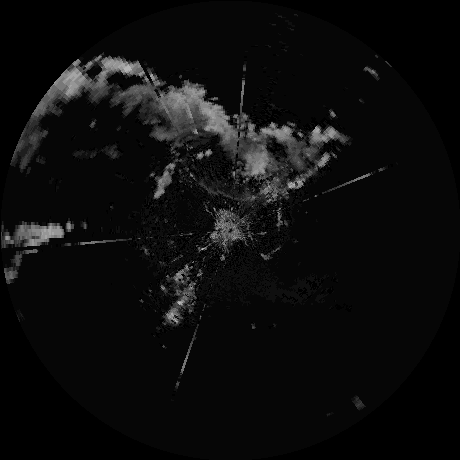frontgust: (194, 177, 255, 204)
